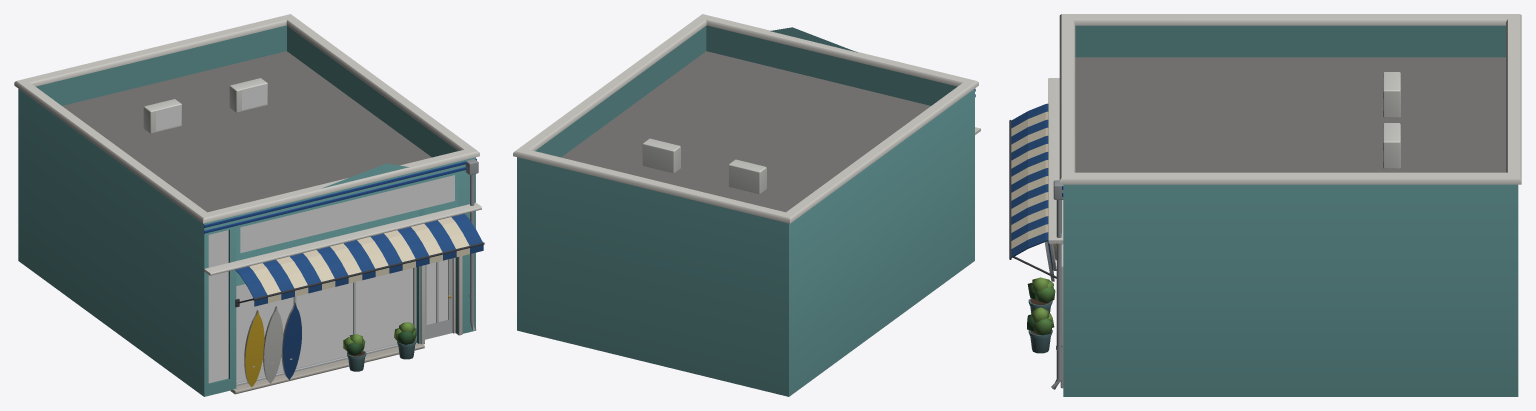
Rendered from DecoSurfFL.fbx.
3 renders of one model, left to right at view 1: azimuth 30°, elevation 25°; view 2: azimuth 150°, elevation 25°; view 3: azimuth 270°, elevation 25°, orthographic. The views are drawn at different scales.
Parts seen in each view (by area): view 1: DecoSurfFL; view 2: DecoSurfFL; view 3: DecoSurfFL.
Boxes of the visible parts, <box> form: DecoSurfFL: <box>14,14,484,396</box>; DecoSurfFL: <box>513,14,980,396</box>; DecoSurfFL: <box>1009,14,1521,396</box>.
Size of the model in its own units: 7.74 by 5.13 by 10.14.
